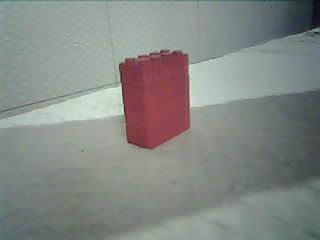lego: (117, 48, 190, 150)
